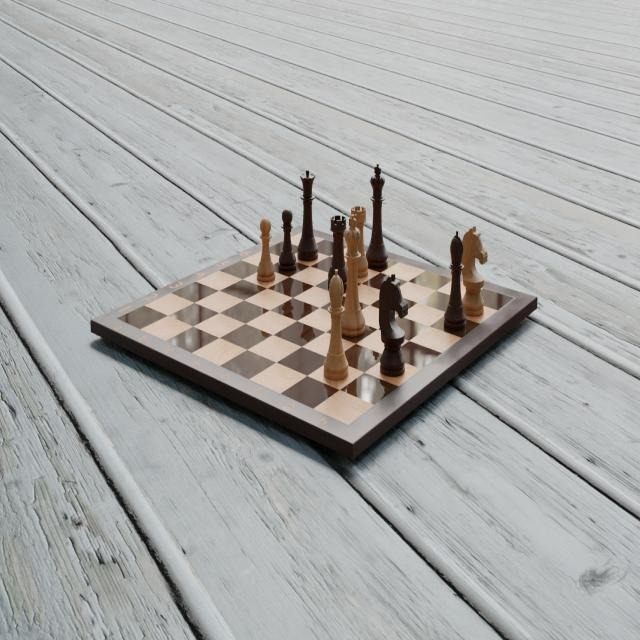black-bishop: (442, 231, 467, 333)
black-king: (365, 163, 389, 269)
black-knight: (378, 272, 410, 382)
black-pawn: (276, 205, 296, 274)
black-queen: (294, 167, 317, 264)
black-rook: (329, 211, 347, 281)
white-bishop: (322, 270, 350, 382)
white-king: (340, 213, 365, 335)
white-knight: (460, 225, 488, 323)
white-pawn: (256, 214, 276, 286)
white-rook: (347, 204, 369, 280)
